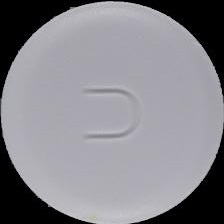0179-0213: (0, 0, 224, 224)
